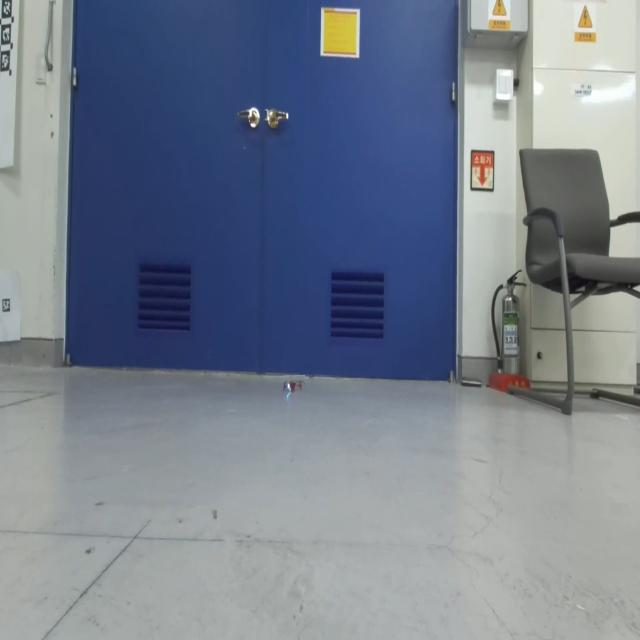crazyflie: (279, 375, 305, 403)
